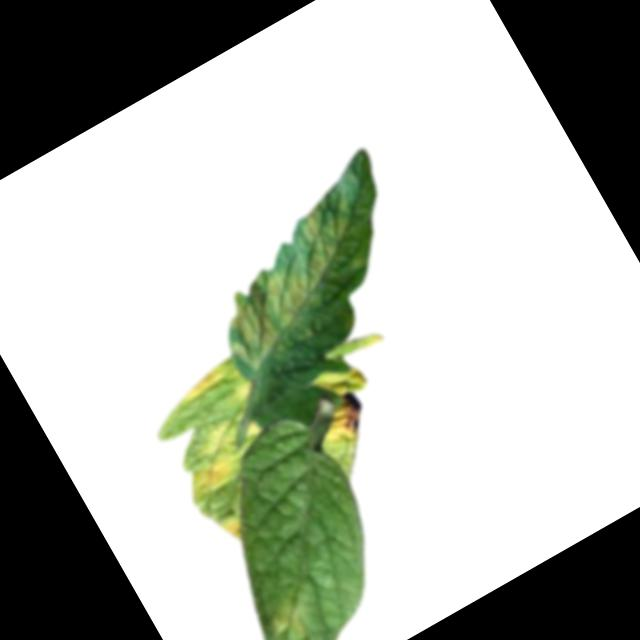Leaf_Mold: (186, 182, 400, 378), (166, 406, 280, 506), (296, 354, 389, 453), (170, 359, 237, 409), (265, 599, 316, 640), (217, 512, 252, 550)
